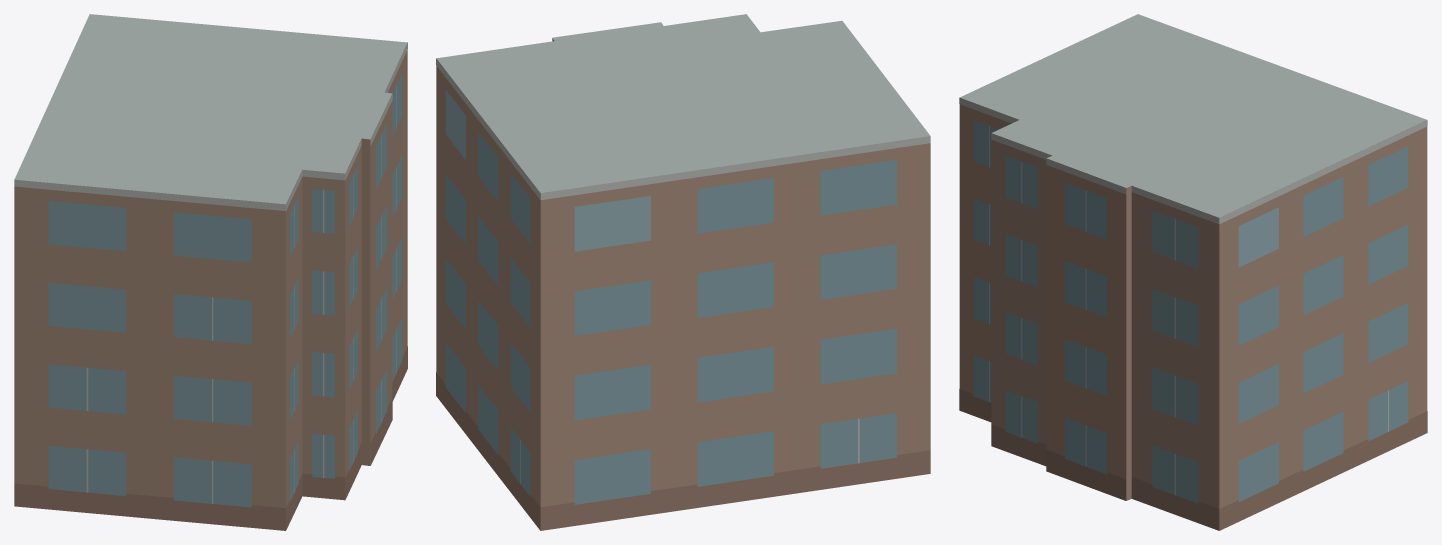
Rendered from survey-upis-32524291.glb.
3 renders of one model, left to right at view 1: azimuth 30°, elevation 25°; view 2: azimuth 150°, elevation 25°; view 3: azimuth 270°, elevation 25°, orthographic. The views are drawn at different scales.
Visible parts, largest first — view 1: survey-upis-32524291.tmp; view 2: survey-upis-32524291.tmp; view 3: survey-upis-32524291.tmp.
Part boxes in pixels (x1,y1,x2,y2): survey-upis-32524291.tmp: (14, 14, 407, 530); survey-upis-32524291.tmp: (436, 14, 930, 530); survey-upis-32524291.tmp: (959, 14, 1427, 530).
Bounding box in the file's own units: 16.35 × 11.7 × 15.86.
